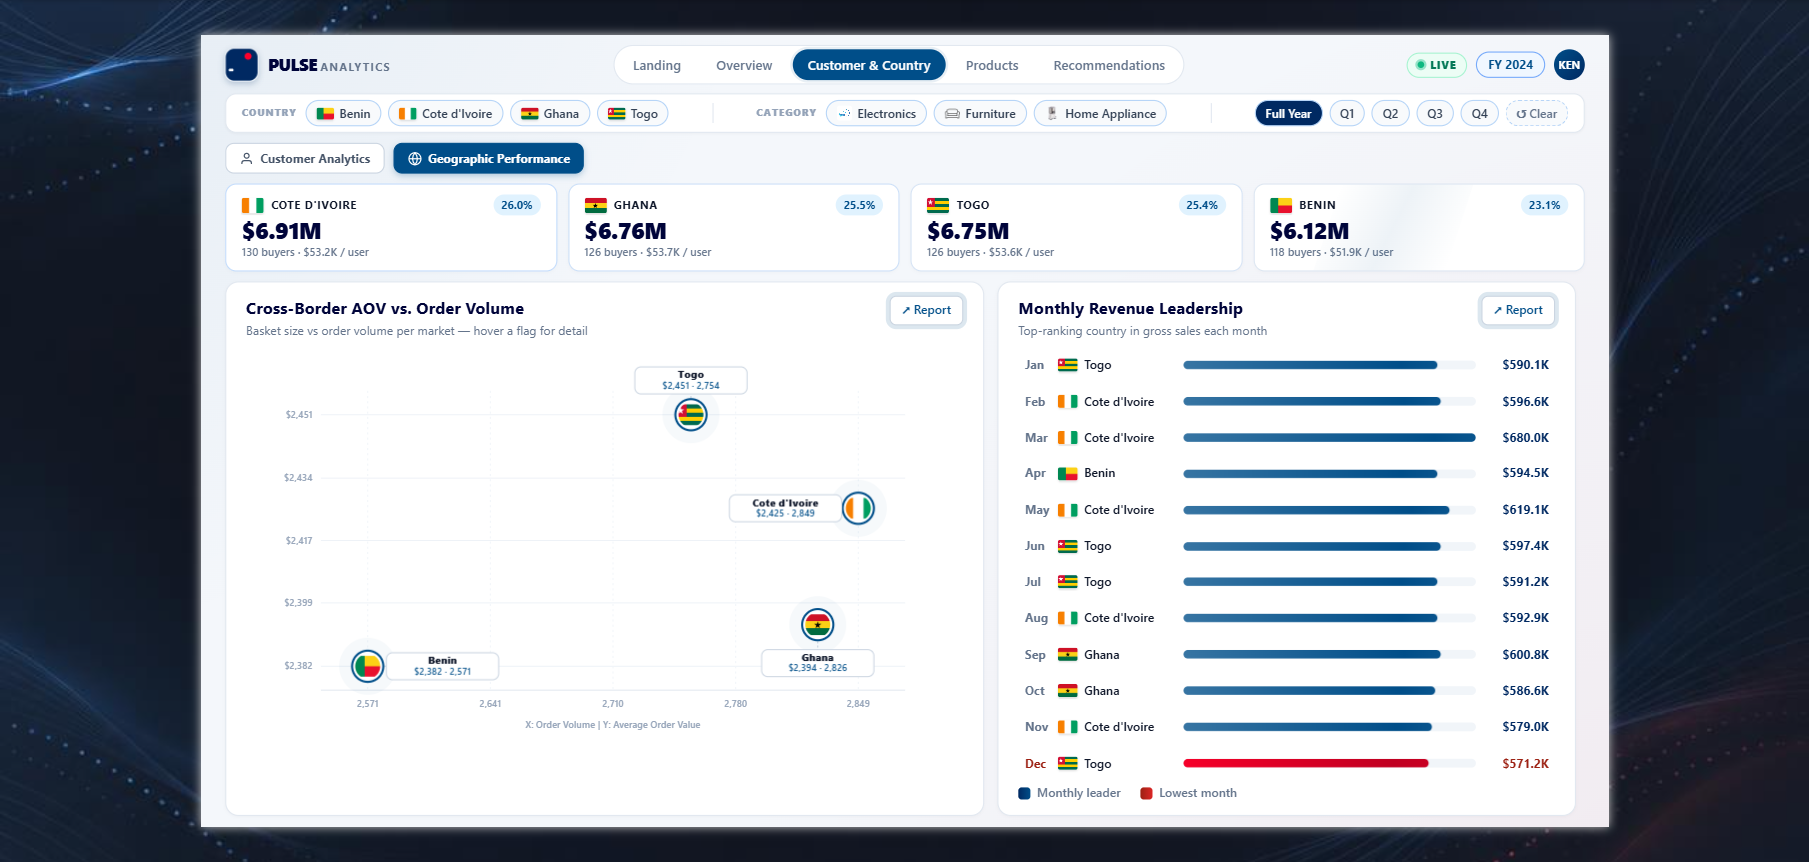

The page's visual inventory and layout, read from the dashboard file:
{"tool":"powerbi","page":{"name":"Customer Page","canvas":[1280,720],"ordinal":2},"visuals":[{"type":"htmlContent443BE3AD55E043BF878BED274D3A6855","fields":{"content":["HTML_Visuals.Customer_Country_Page"]},"box":[0,0,1280,720],"z":0}]}

Visuals, with their boxes on the page's 1280x720 design canvas (x1, y1, x2, y2). These are canvas units, not pixel positions in the 1809x862 screenshot, which may show the page scaled, cropped or inside an application window:
htmlContent443BE3AD55E043BF878BED274D3A6855 - HTML_Visuals.Customer_Country_Page: [left=0, top=0, right=1280, bottom=720]
